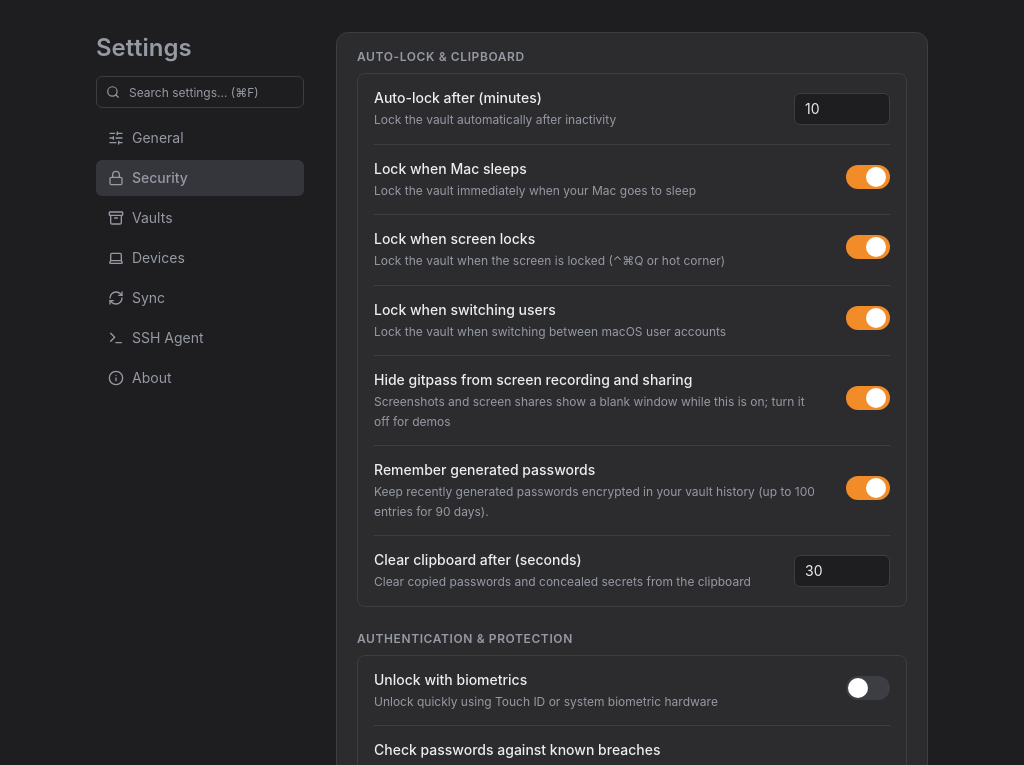
Test: Settings search and consistent layout › searches for website icons / favicon and targets appearance row
Type "favicon" into the search field with test id "settings-search-input" at (200, 92), box [96, 76, 304, 108]
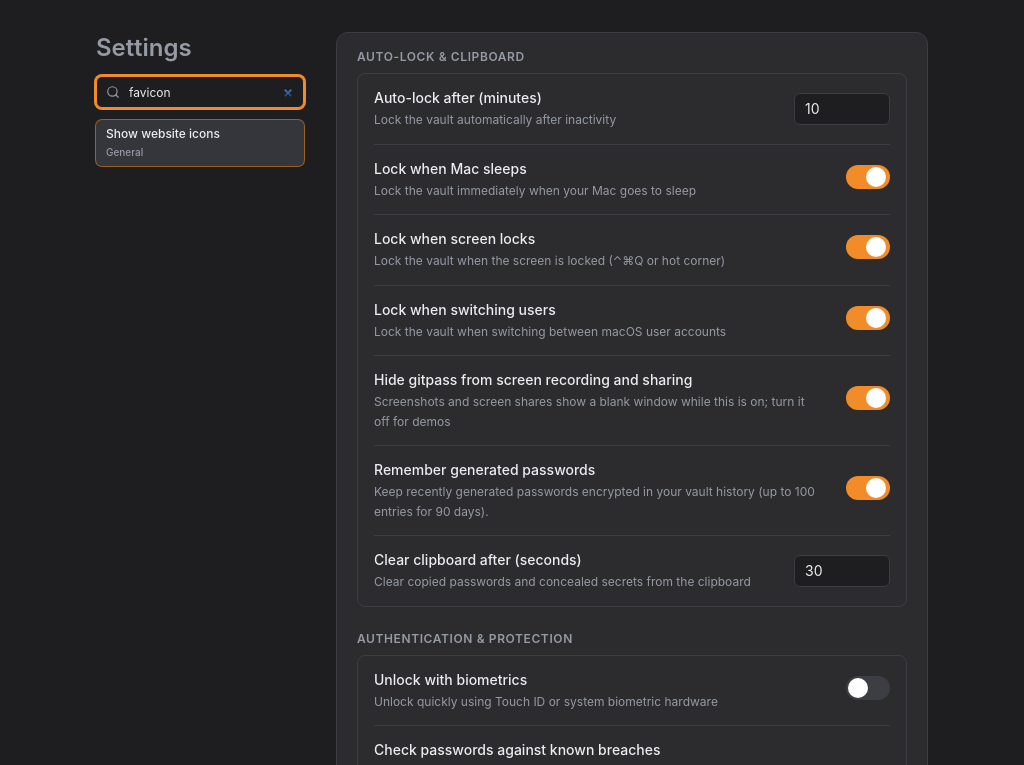
expect the option "Show website icons General" is shown: met
Click the option "Show website icons General" at (200, 143), box [96, 120, 304, 166]
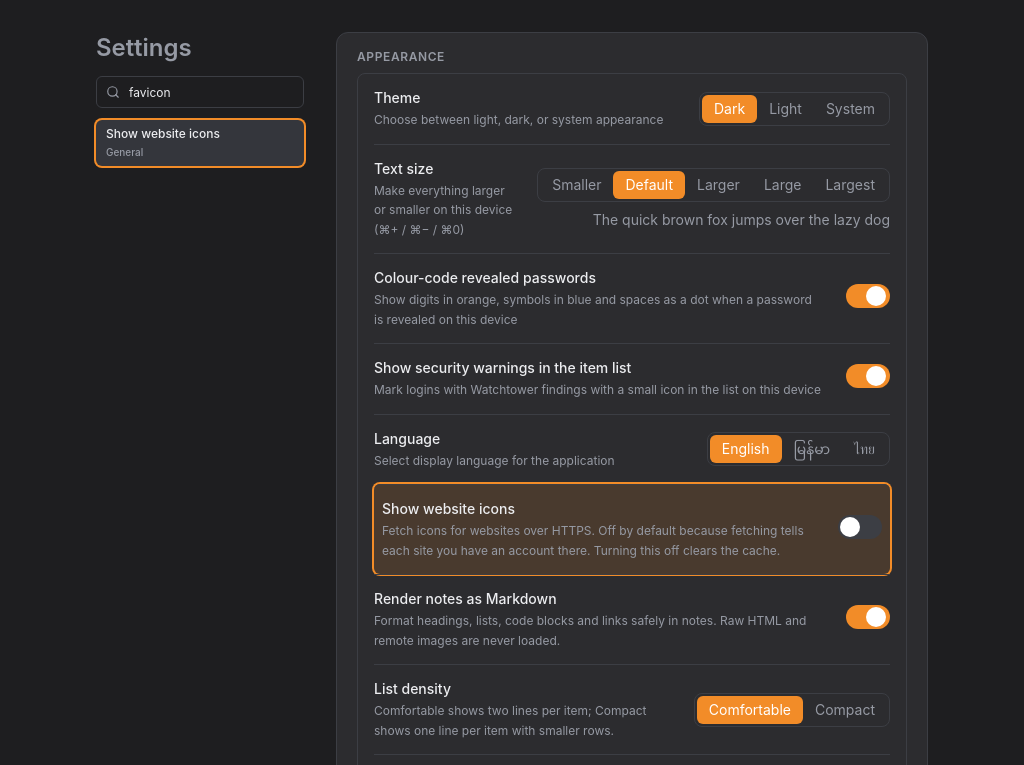
expect the element with id "setting-show-website-icons" is shown: met, box [374, 484, 890, 574]
